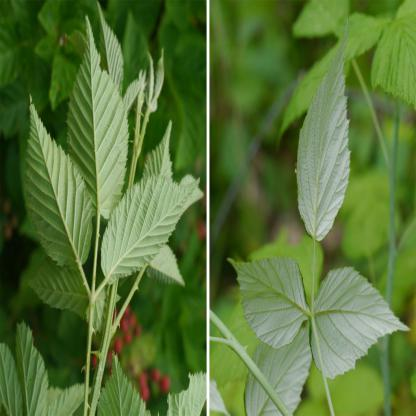Raspberry leaf: (295, 12, 353, 240), (68, 17, 132, 220), (308, 262, 411, 382), (26, 97, 95, 270), (101, 173, 202, 288), (227, 245, 305, 356)
